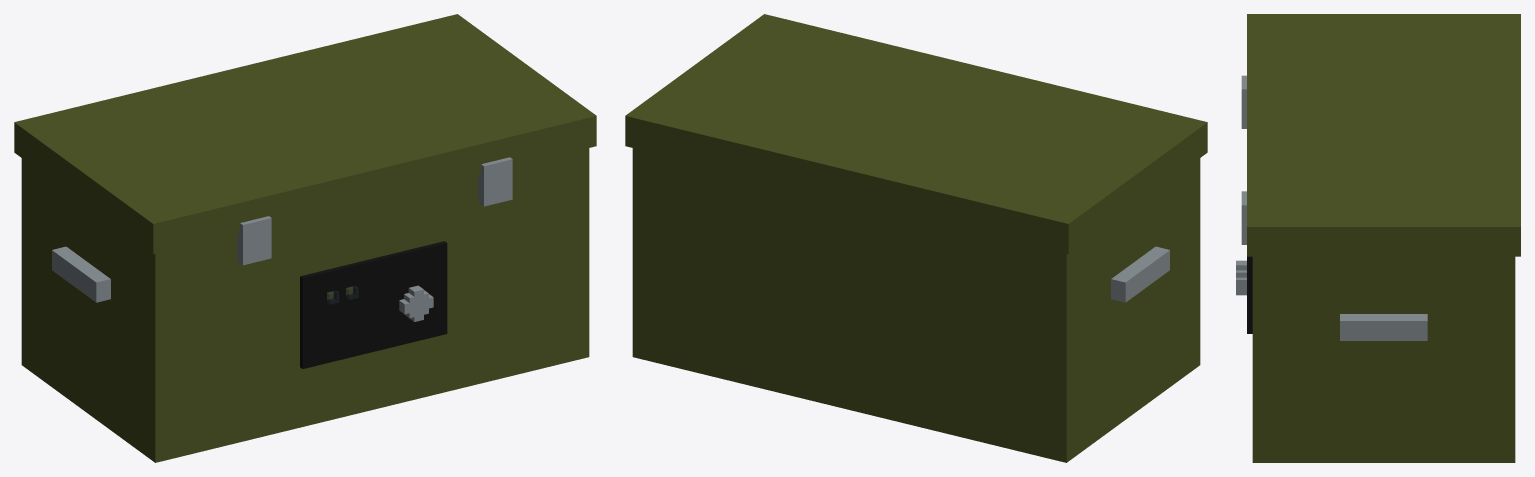
File: charging_foot_locker.glb
The picture shows the model from 3 angles, left to right: view 1: azimuth 30°, elevation 25°; view 2: azimuth 150°, elevation 25°; view 3: azimuth 270°, elevation 25°; orthographic projection.
Visible parts, largest first — view 1: charging_foot_locker:compound; view 2: charging_foot_locker:compound; view 3: charging_foot_locker:compound.
Boxes of the visible parts, x1=… form: charging_foot_locker:compound: x1=14, y1=14, x2=596, y2=462; charging_foot_locker:compound: x1=625, y1=14, x2=1207, y2=462; charging_foot_locker:compound: x1=1236, y1=14, x2=1520, y2=462.
Bounding box in the file's own units: 0.96 × 0.48 × 0.52.
